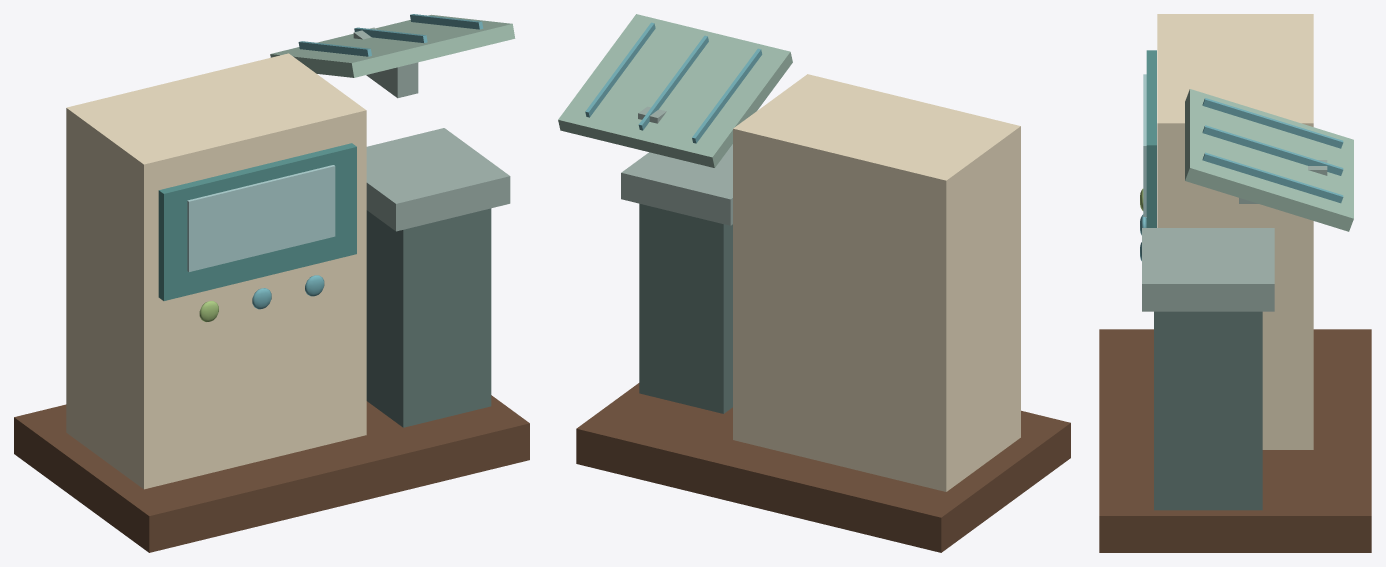
The model's file is cold-storage-power.glb.
The picture shows the model from 3 angles, left to right: view 1: azimuth 30°, elevation 25°; view 2: azimuth 150°, elevation 25°; view 3: azimuth 270°, elevation 25°; orthographic projection. The views are drawn at different scales.
Parts seen in each view (by area): view 1: cold-storage-power_cream, cold-storage-power_woodDark, cold-storage-power_metalDark, cold-storage-power_metal, cold-storage-power_teal, cold-storage-power_glass, cold-storage-power_roofLight, cold-storage-power_iceDark; view 2: cold-storage-power_cream, cold-storage-power_woodDark, cold-storage-power_roofLight, cold-storage-power_metalDark, cold-storage-power_metal, cold-storage-power_iceDark; view 3: cold-storage-power_woodDark, cold-storage-power_cream, cold-storage-power_metalDark, cold-storage-power_roofLight, cold-storage-power_metal, cold-storage-power_iceDark, cold-storage-power_teal, cold-storage-power_glass.
Boxes of the visible parts, x1,y1,x2,y2 form: cold-storage-power_cream: [66, 53, 366, 489]; cold-storage-power_woodDark: [14, 395, 529, 552]; cold-storage-power_metalDark: [366, 208, 491, 427]; cold-storage-power_metal: [353, 27, 510, 231]; cold-storage-power_teal: [158, 143, 356, 300]; cold-storage-power_glass: [187, 165, 335, 271]; cold-storage-power_roofLight: [270, 14, 515, 77]; cold-storage-power_iceDark: [252, 14, 483, 309]; cold-storage-power_cream: [733, 74, 1020, 491]; cold-storage-power_woodDark: [576, 383, 1070, 552]; cold-storage-power_roofLight: [558, 14, 792, 167]; cold-storage-power_metalDark: [639, 203, 732, 413]; cold-storage-power_metal: [621, 106, 732, 225]; cold-storage-power_iceDark: [585, 22, 762, 143]; cold-storage-power_woodDark: [1099, 329, 1371, 552]; cold-storage-power_cream: [1157, 14, 1313, 449]; cold-storage-power_metalDark: [1154, 311, 1262, 510]; cold-storage-power_roofLight: [1185, 89, 1353, 231]; cold-storage-power_metal: [1142, 160, 1327, 311]; cold-storage-power_iceDark: [1140, 98, 1343, 260]; cold-storage-power_teal: [1146, 50, 1156, 227]; cold-storage-power_glass: [1143, 74, 1146, 216].
Bounding box in the file's own units: 1.39 × 1.3 × 0.8.
